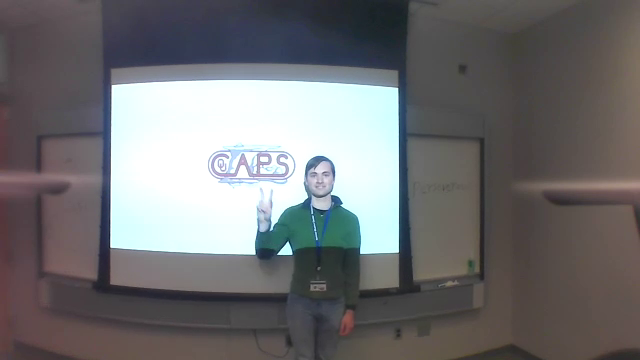peace: (247, 185, 280, 224)
